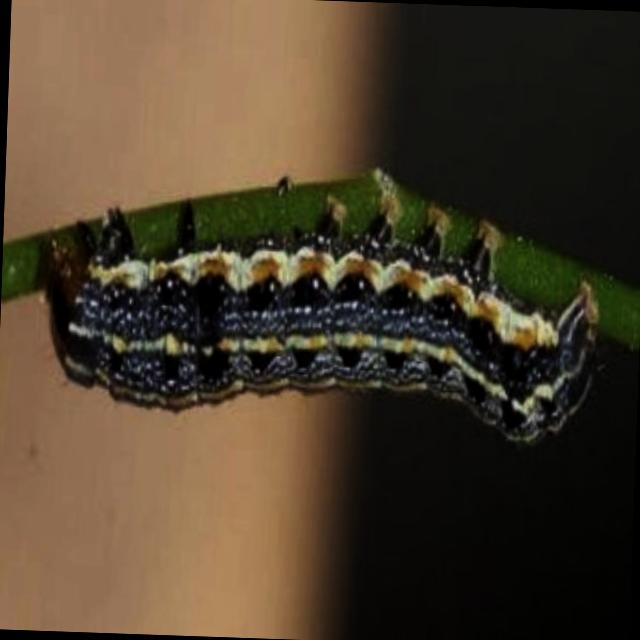Tobacco cutworm: (23, 112, 640, 523)
